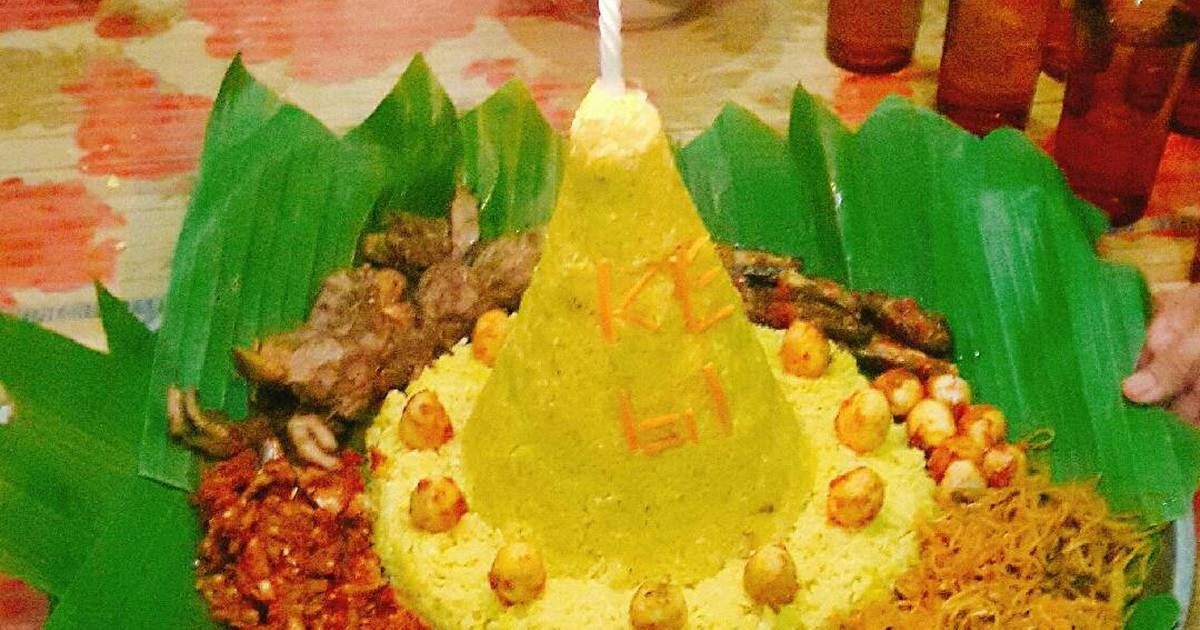tumpeng: (402, 64, 815, 539)
